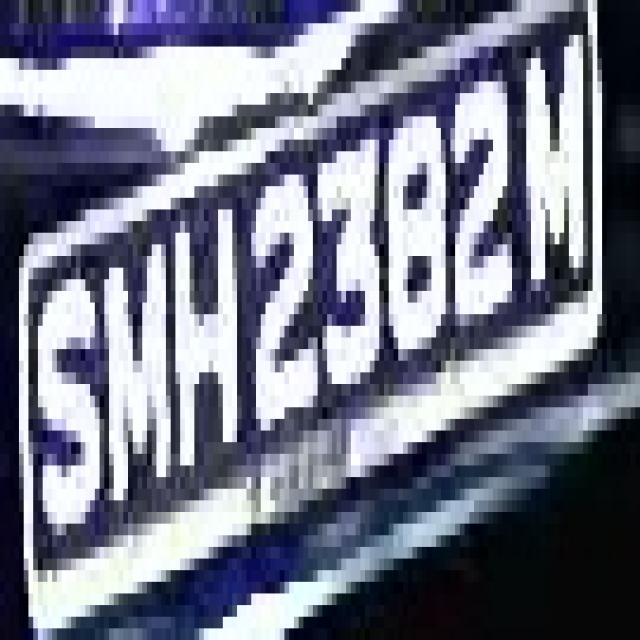2: (436, 58, 522, 361), (246, 140, 318, 466)
3: (313, 105, 379, 407)
8: (384, 105, 460, 407)
H: (156, 174, 246, 500)
M: (512, 35, 602, 337), (95, 221, 175, 524)
S: (33, 244, 104, 547)
